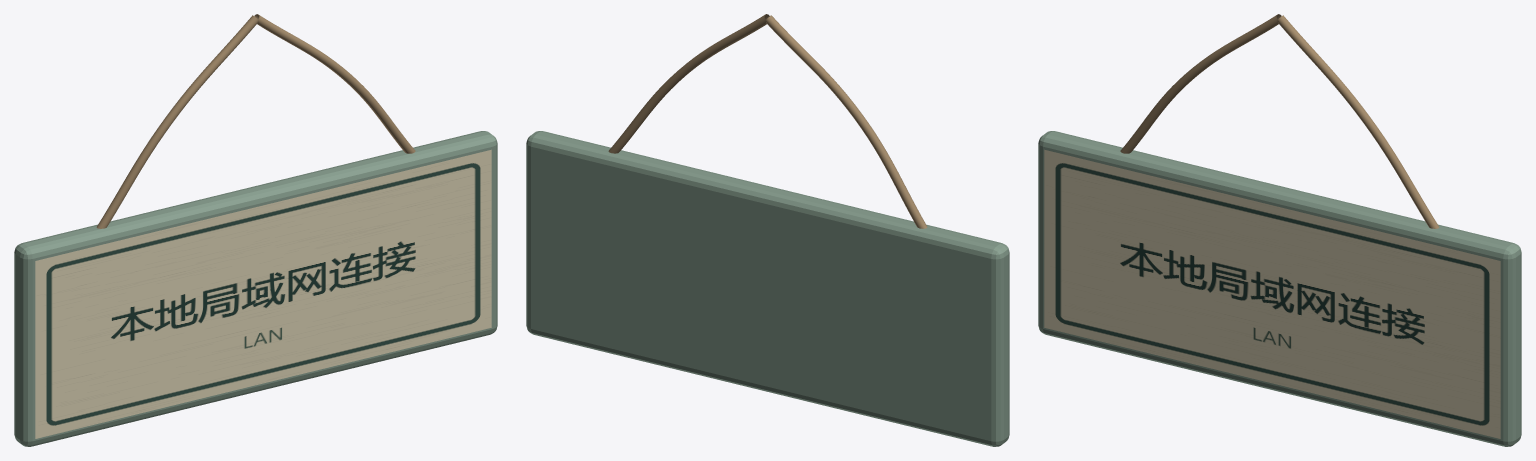
Rendered from Signs-ConnectionHanging.fbx.
The picture shows the model from 3 angles, left to right: view 1: azimuth 30°, elevation 25°; view 2: azimuth 150°, elevation 25°; view 3: azimuth 330°, elevation 25°; orthographic projection.
Parts seen in each view (by area): view 1: Sign Lettering, Hanging Board, Left Cord, Right Cord; view 2: Hanging Board, Left Cord, Right Cord; view 3: Sign Lettering, Hanging Board, Right Cord, Left Cord.
Part boxes in pixels (left/top/right/bottom): Sign Lettering: left=35, top=149, right=491, bottom=438; Hanging Board: left=14, top=131, right=497, bottom=446; Left Cord: left=96, top=15, right=258, bottom=228; Right Cord: left=254, top=14, right=415, bottom=153; Hanging Board: left=526, top=131, right=1009, bottom=446; Left Cord: left=765, top=15, right=927, bottom=228; Right Cord: left=608, top=14, right=769, bottom=153; Sign Lettering: left=1044, top=149, right=1500, bottom=438; Hanging Board: left=1038, top=131, right=1521, bottom=446; Right Cord: left=1277, top=15, right=1439, bottom=228; Left Cord: left=1120, top=14, right=1281, bottom=153.
Bounding box in the file's own units: 70 × 52.44 × 3.65.
